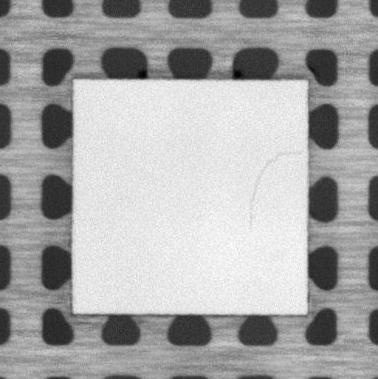DIE_CRACK: (246, 148, 301, 234)
